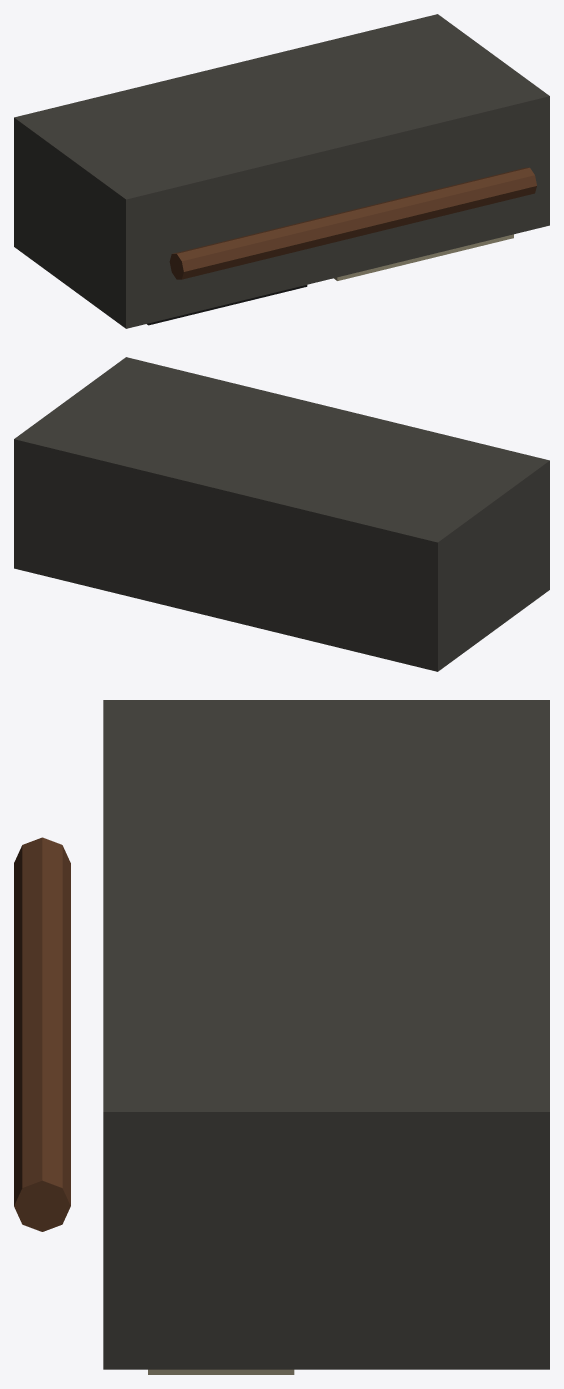
The model's file is radio_old.obj.
The picture shows the model from 3 angles, top to bottom: view 1: azimuth 30°, elevation 25°; view 2: azimuth 150°, elevation 25°; view 3: azimuth 270°, elevation 25°; orthographic projection. The views are drawn at different scales.
Bounding box in the file's own units: 1.2 × 0.39 × 0.66.
